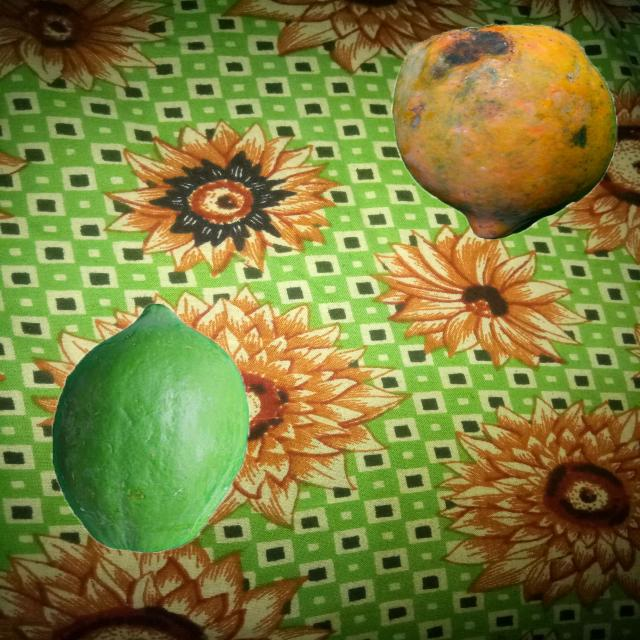Pepaya rippen: (391, 23, 627, 242)
Pepaya unrippen: (48, 304, 262, 556)
